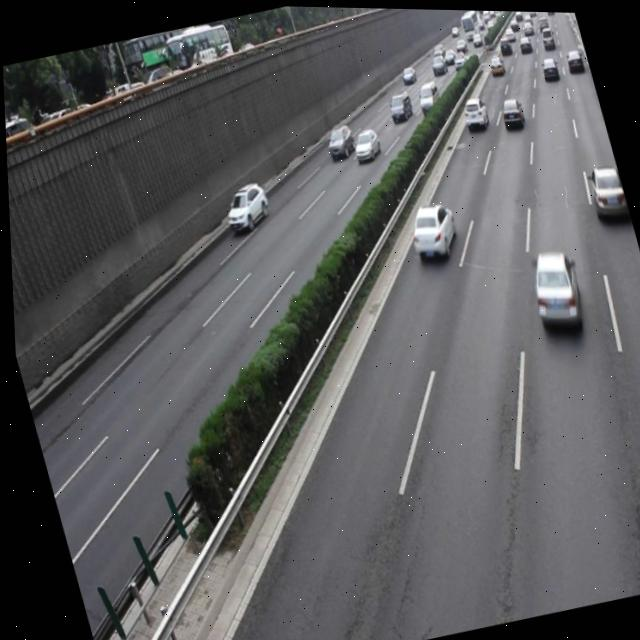car: (517, 241, 585, 333), (400, 195, 460, 262), (216, 176, 271, 232), (582, 159, 629, 220), (346, 123, 380, 160)
